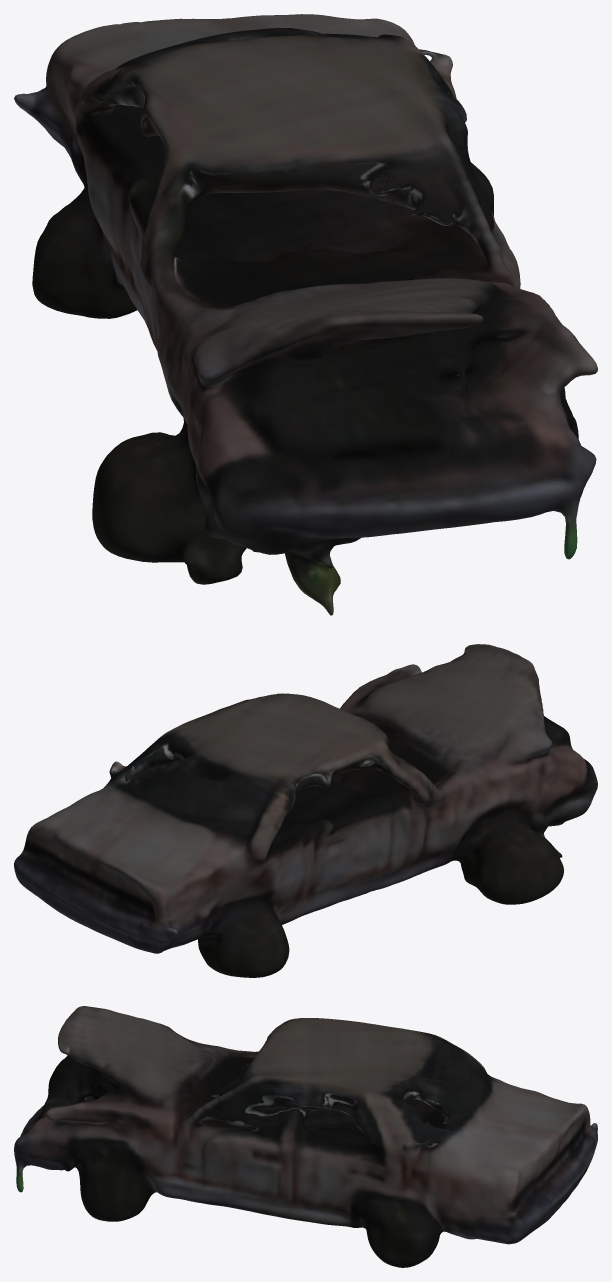
The model's file is Old Car 2.glb.
3 views of the same model, one above another, from view 1: azimuth 30°, elevation 25°; view 2: azimuth 150°, elevation 25°; view 3: azimuth 270°, elevation 25° (orthographic). The views are drawn at different scales.
Parts seen in each view (by area): view 1: world; view 2: world; view 3: world.
Part boxes in pixels (bbox=[...]): world: bbox=[14, 14, 597, 615]; world: bbox=[14, 644, 597, 977]; world: bbox=[14, 1006, 597, 1267].
Size of the model in its own units: 0.3999 by 0.1989 by 0.5887.
1 material, 1 textured.
